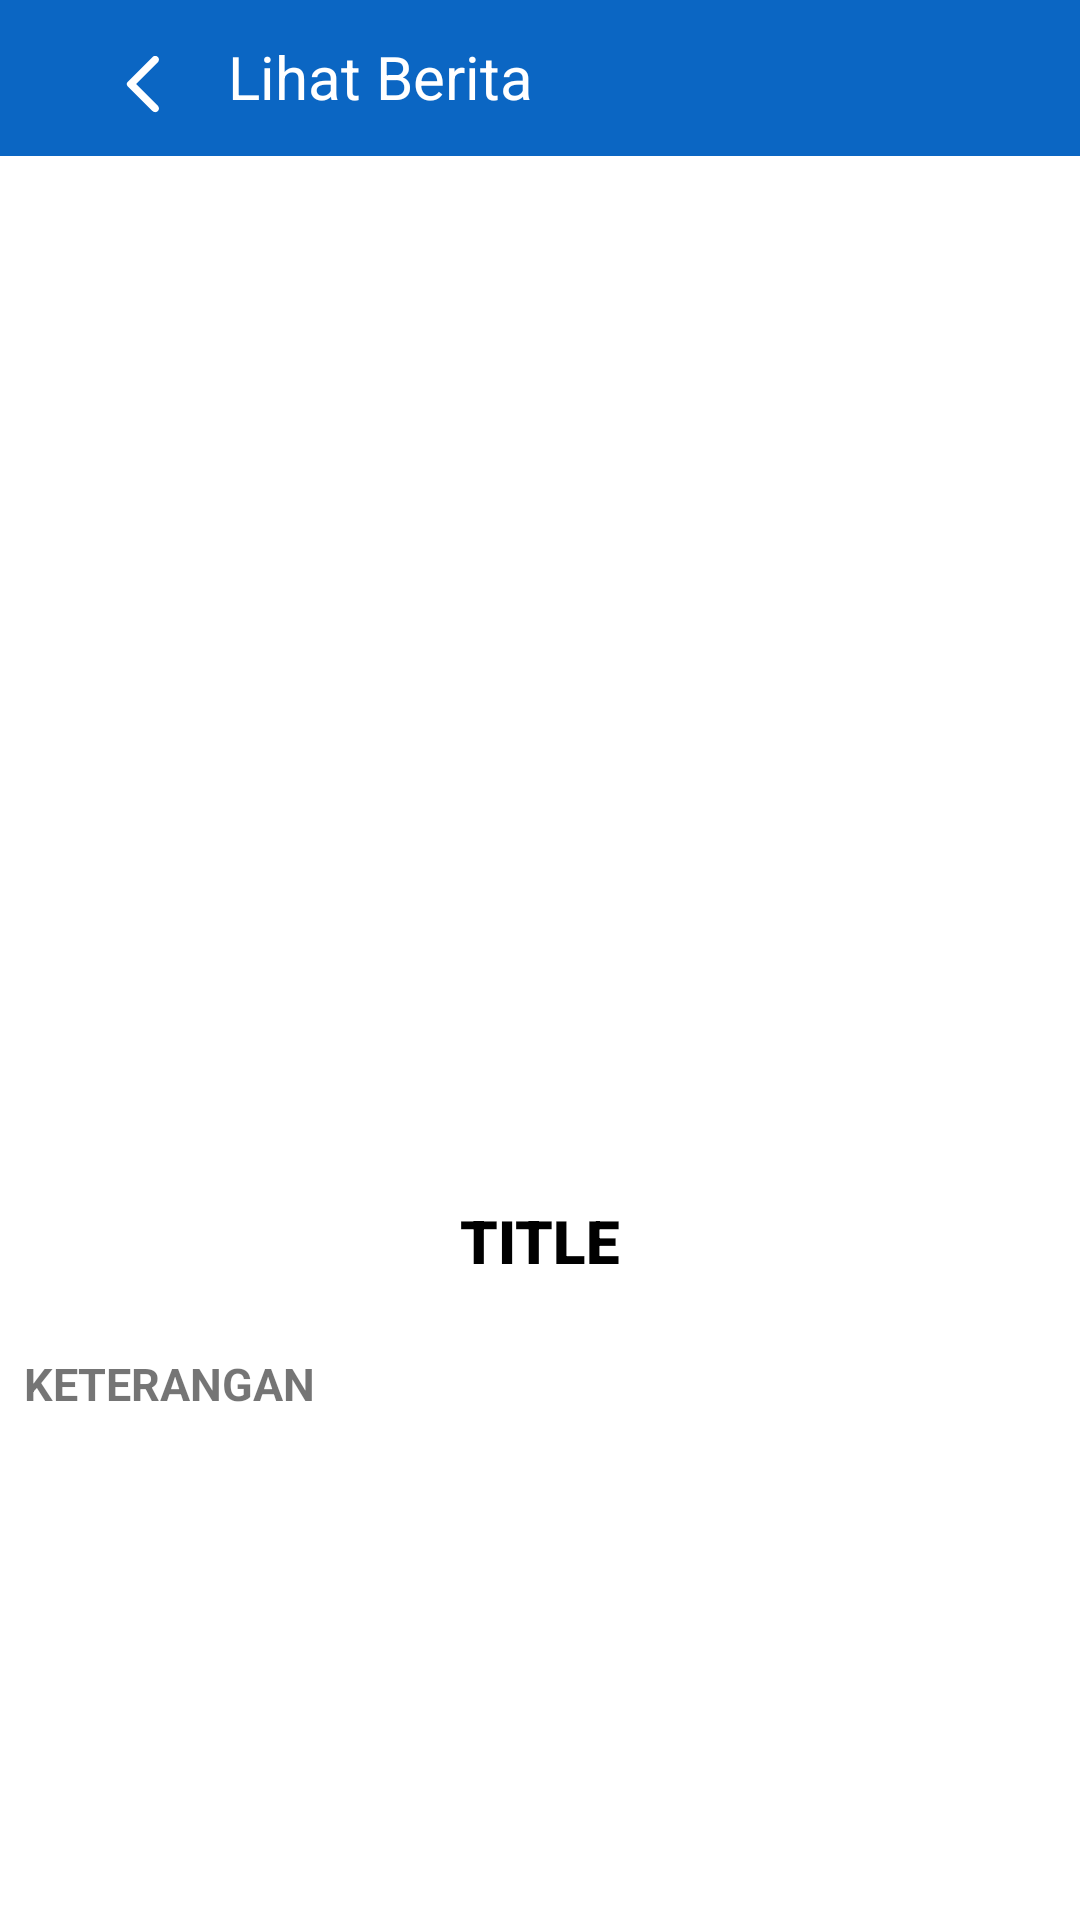

Locate icon controls on the screen. Image size 1080w x 1920h, boxes as bbox(x1, y1, x2, y2).
arrow: bbox(126, 56, 159, 113)
